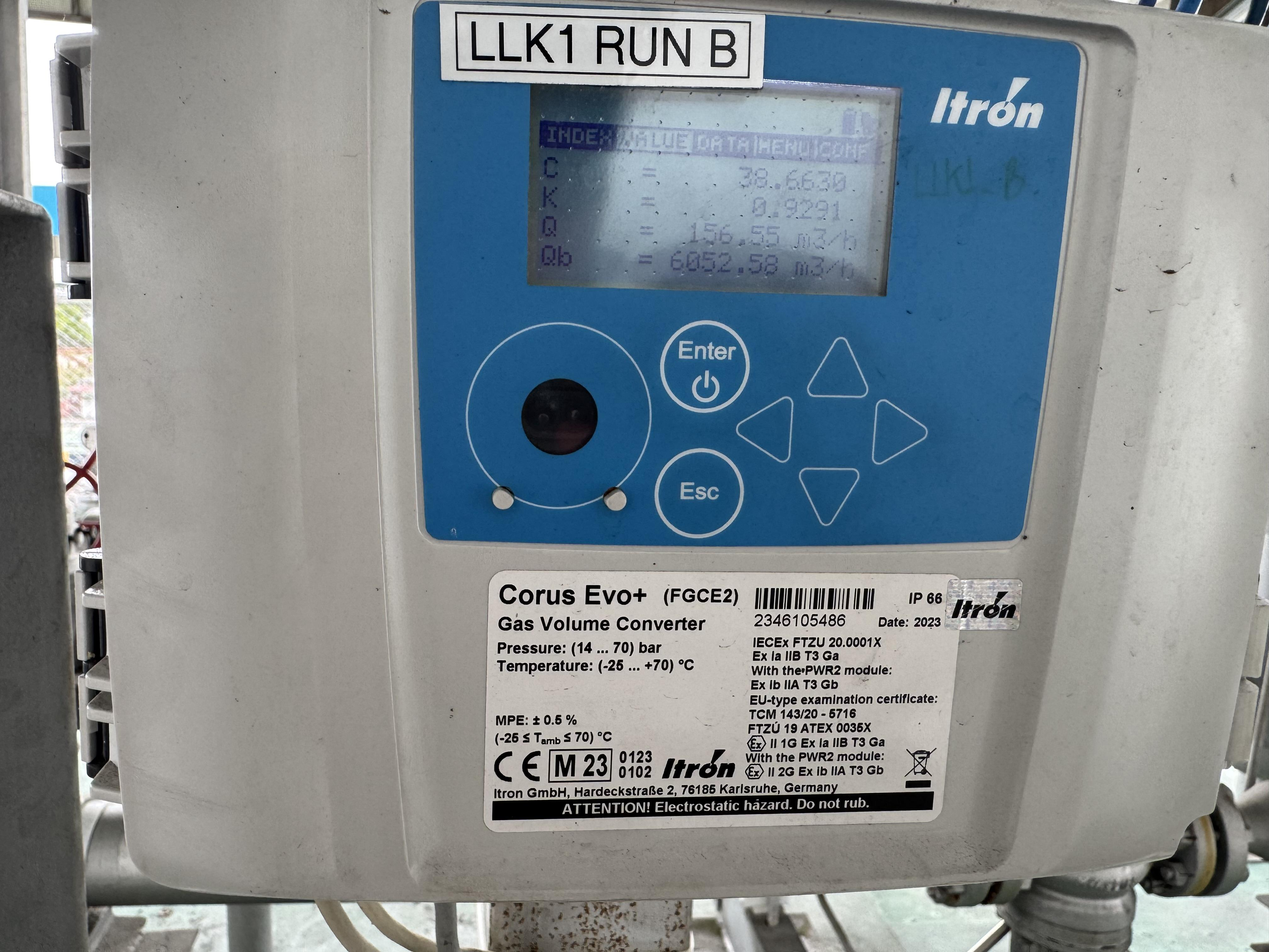digital_screen: (523, 70, 902, 296)
